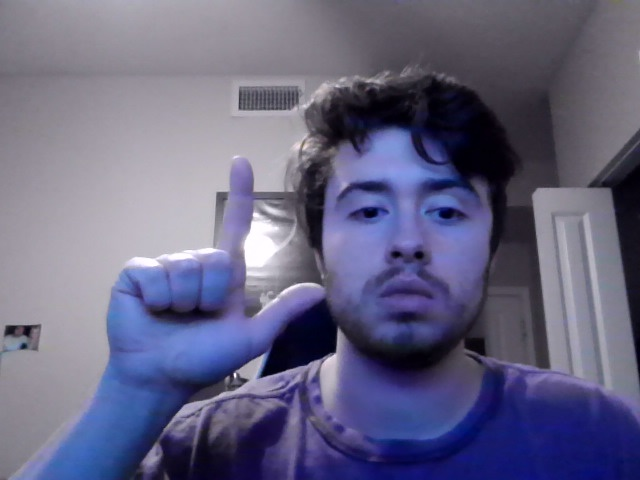l: (105, 154, 328, 400)
